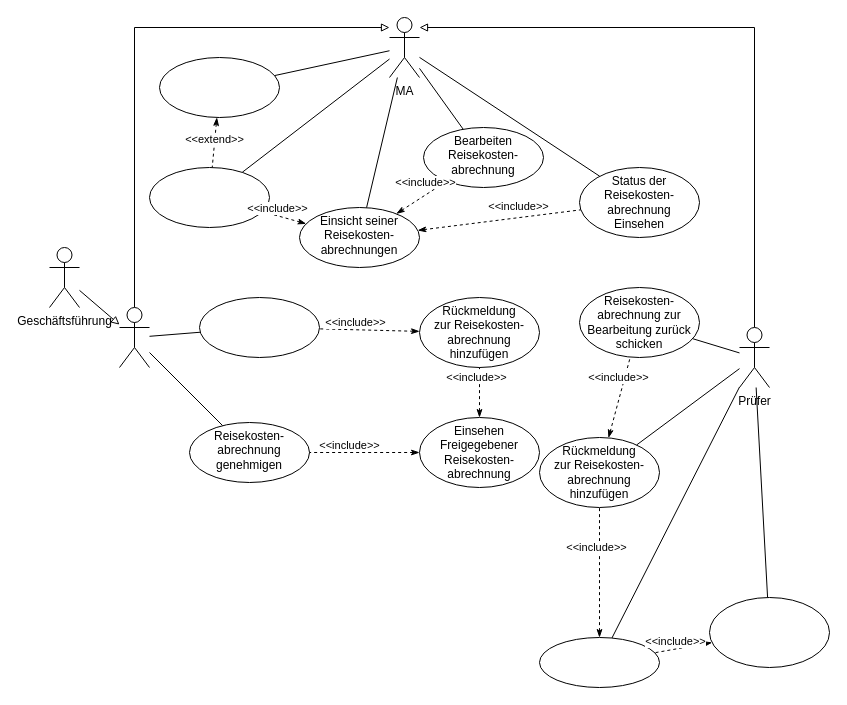
The diagram is 847 pixels wide and 705 high, and some of its shapes have lost their labels. The centre of each missing label's shape, as x and y in pixels:
"Berechnugen / Belege Prüfen" belongs at point 599,662.
"Einsehen Genehmigter Reisekosten-abrechnungen" belongs at point 769,632.
"Erstellung Reisekosten- abrechnung" belongs at point 219,87.
"Freigabe Reisekosten-abrechnung" belongs at point 209,197.
"Reisekosten-abrechnung ablehnung" belongs at point 259,327.
"Vorgesetzter" belongs at point 134,337.
